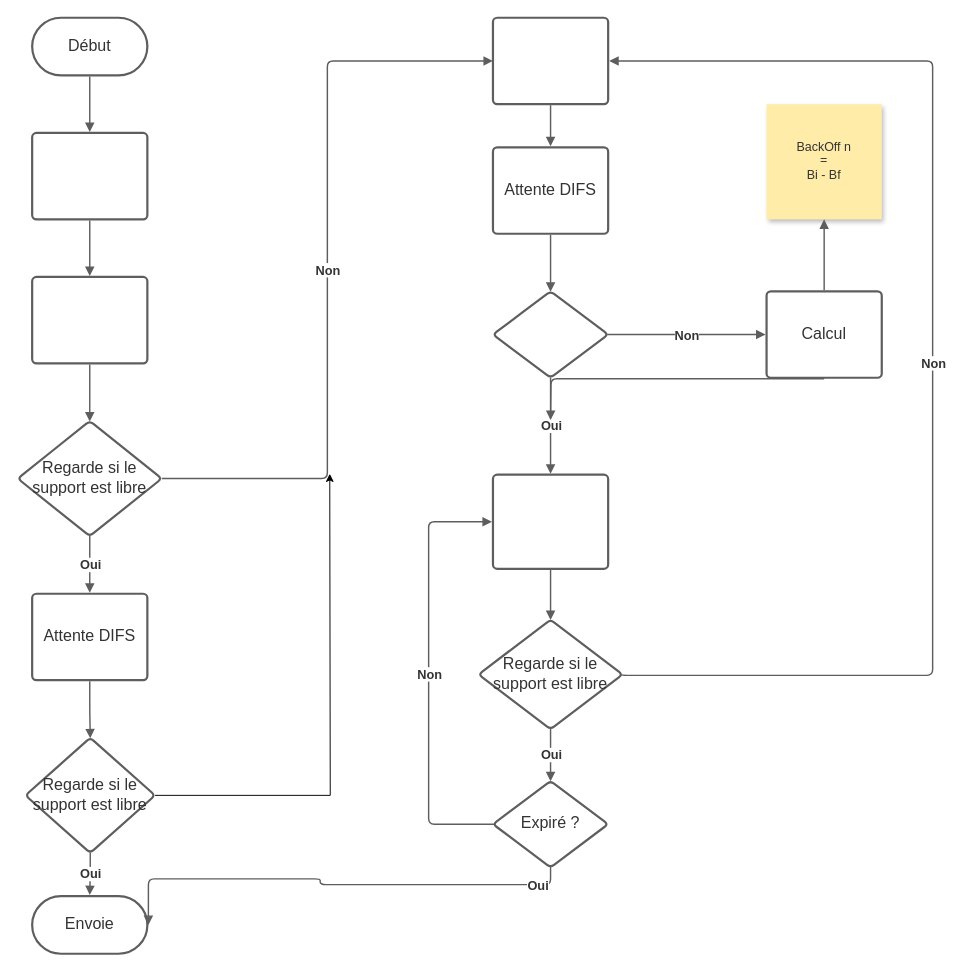
Some shapes in this 962 by 972 pixel diagram are drawn without their labels. The shapes that lost their labels are listed below. From the top down, each one's centre as x and y in pixels, then its label:
point (550, 60): Attente support libre
point (89, 175): Station veut envoyer des données
point (89, 319): Ecoute du support
point (550, 334): Back off calculé
point (550, 521): Décrémentation d'un TimeSlot et écoute support
